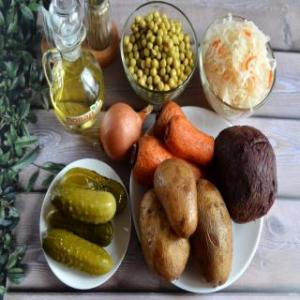beet: (208, 120, 278, 226)
carrot: (129, 130, 207, 198), (162, 111, 216, 167)
cucumber: (42, 228, 110, 274), (50, 183, 113, 223), (63, 168, 121, 204)
onion: (97, 98, 154, 164)
potato: (137, 187, 193, 287), (192, 176, 236, 294), (152, 156, 206, 240)
